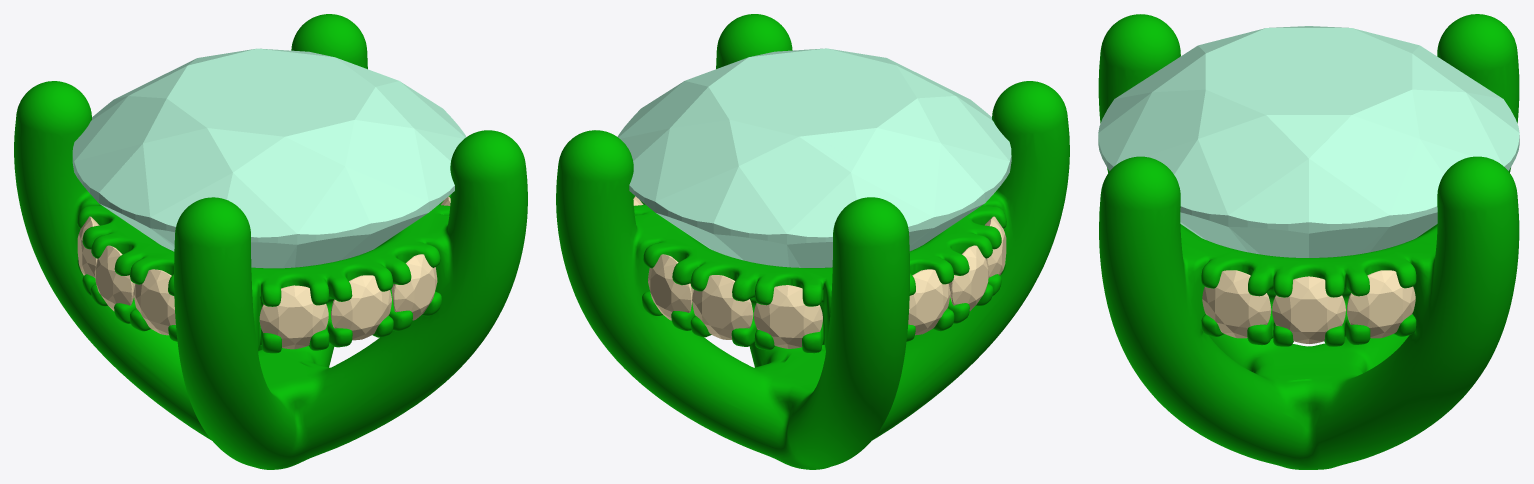
3 views of the same model, side by side, from view 1: azimuth 30°, elevation 25°; view 2: azimuth 150°, elevation 25°; view 3: azimuth 270°, elevation 25° (orthographic). The views are drawn at different scales.
Parts seen in each view (by area): view 1: Metal01, CS_Diamond, Diamond_Round.002, Diamond_Round, Diamond_Round.006, Diamond_Round.001, Diamond_Round.008, Diamond_Round.007; view 2: Metal01, CS_Diamond, Diamond_Round.009, Diamond_Round.010, Diamond_Round.007, Diamond_Round.011, Diamond_Round.008, Diamond_Round.006; view 3: Metal01, CS_Diamond, Diamond_Round.005, Diamond_Round.004, Diamond_Round.003.
Part boxes in pixels (bbox=[...]): Metal01: bbox=[14, 14, 527, 469]; CS_Diamond: bbox=[72, 48, 466, 268]; Diamond_Round.002: bbox=[259, 285, 328, 349]; Diamond_Round: bbox=[330, 275, 391, 340]; Diamond_Round.006: bbox=[133, 269, 175, 335]; Diamond_Round.001: bbox=[391, 254, 437, 320]; Diamond_Round.008: bbox=[94, 245, 134, 311]; Diamond_Round.007: bbox=[77, 216, 99, 277]; Metal01: bbox=[556, 14, 1069, 469]; CS_Diamond: bbox=[617, 48, 1011, 267]; Diamond_Round.009: bbox=[754, 285, 822, 348]; Diamond_Round.010: bbox=[692, 275, 753, 339]; Diamond_Round.007: bbox=[908, 269, 950, 335]; Diamond_Round.011: bbox=[648, 254, 693, 320]; Diamond_Round.008: bbox=[949, 245, 989, 310]; Diamond_Round.006: bbox=[985, 216, 1006, 277]; Metal01: bbox=[1098, 14, 1519, 469]; CS_Diamond: bbox=[1098, 26, 1519, 257]; Diamond_Round.005: bbox=[1272, 276, 1345, 343]; Diamond_Round.004: bbox=[1346, 270, 1415, 338]; Diamond_Round.003: bbox=[1202, 270, 1271, 338].
Size of the model in its own units: 6 by 6.14 by 6.
